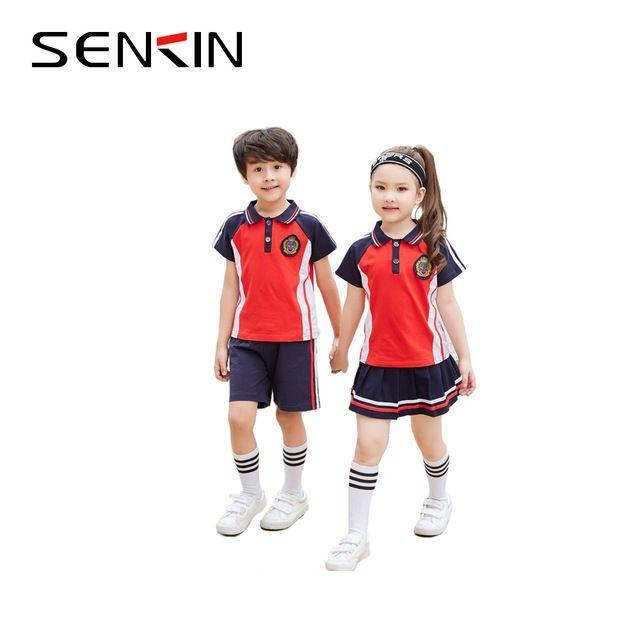child: (327, 130, 483, 579), (198, 124, 338, 544)
